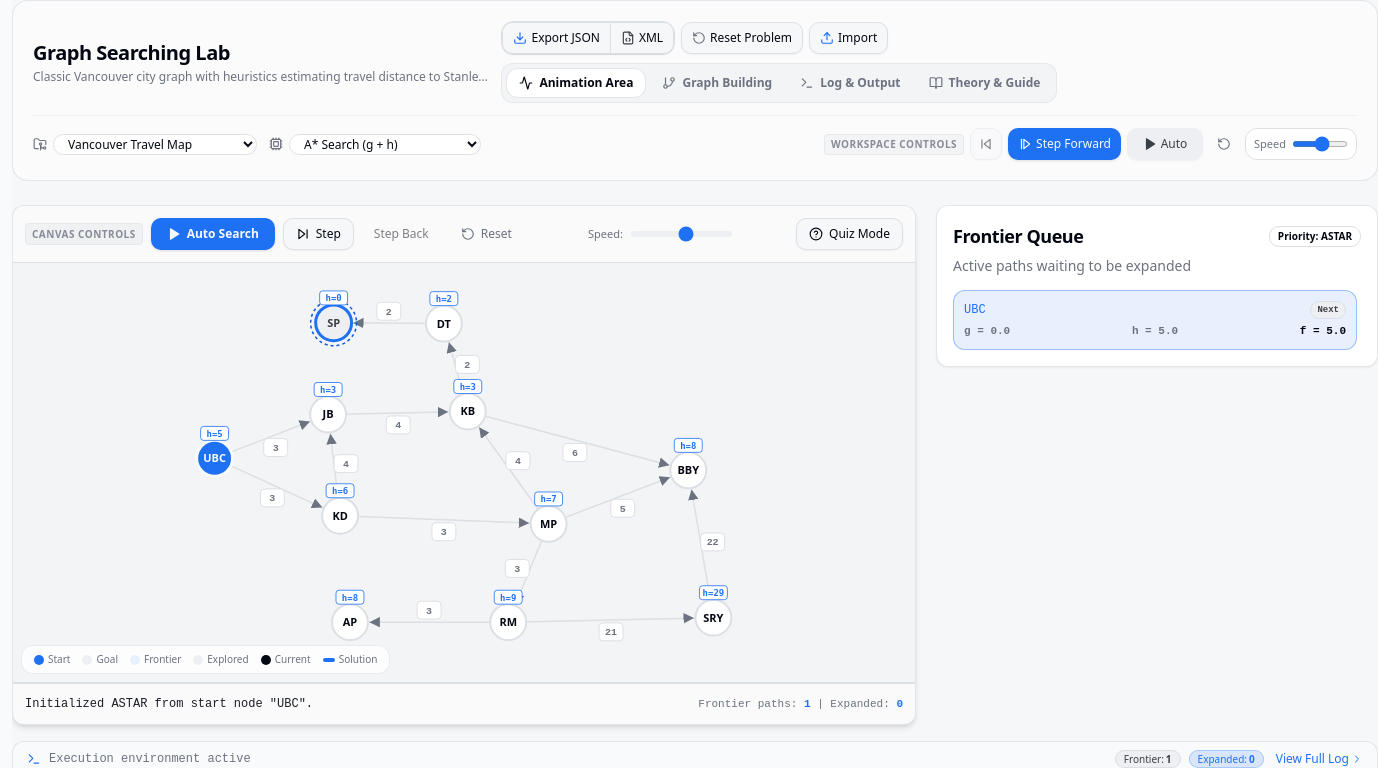
Test: Problem Export, Reset, and Import UI Integration › 1. SearchTool exports problem to JSON and XML
Click the button with test id "export-json-btn".
click(556, 38)  # box left=502, top=22, right=610, bottom=54
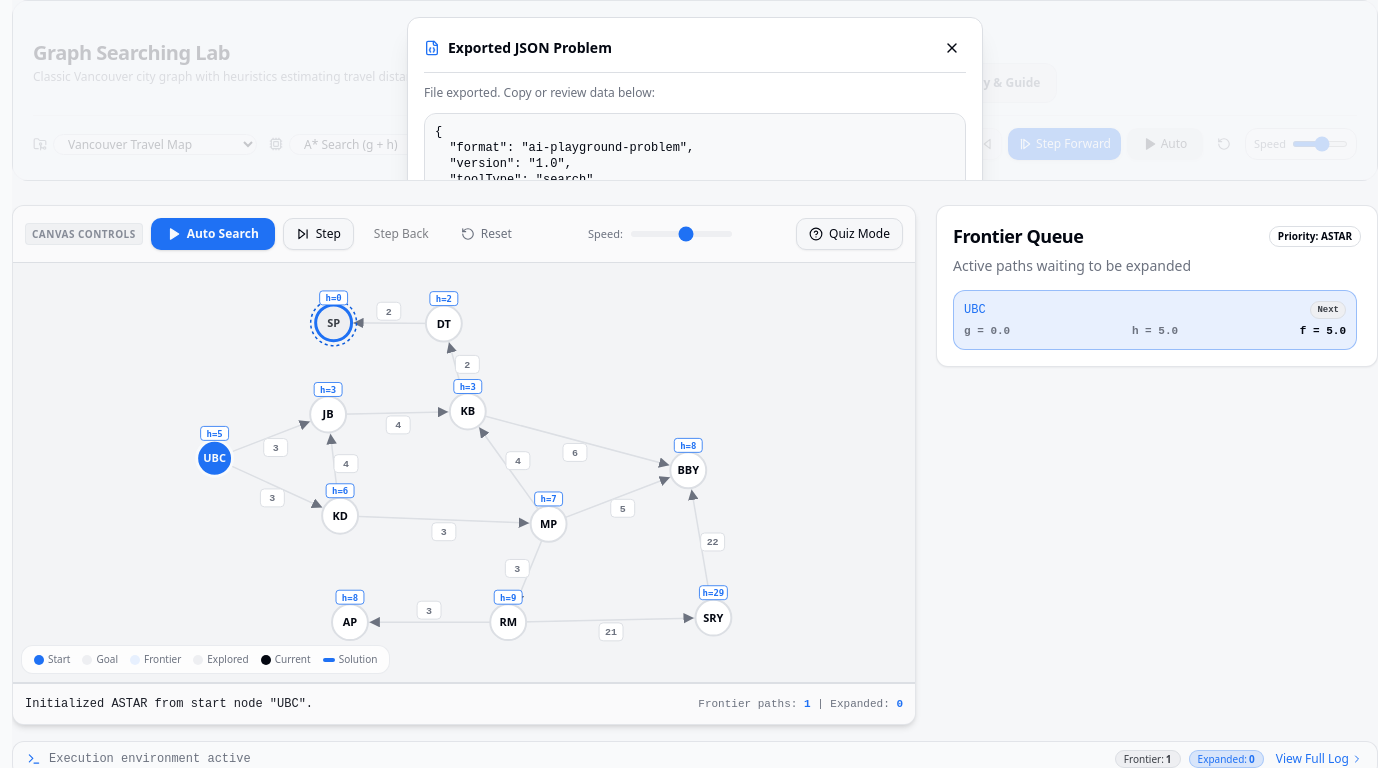
Now the element with test id "exported-modal" is shown, box left=13, top=1, right=1377, bottom=180
Close modal
Click the button with test id "close-exported-modal".
click(952, 48)  # box left=938, top=34, right=966, bottom=62
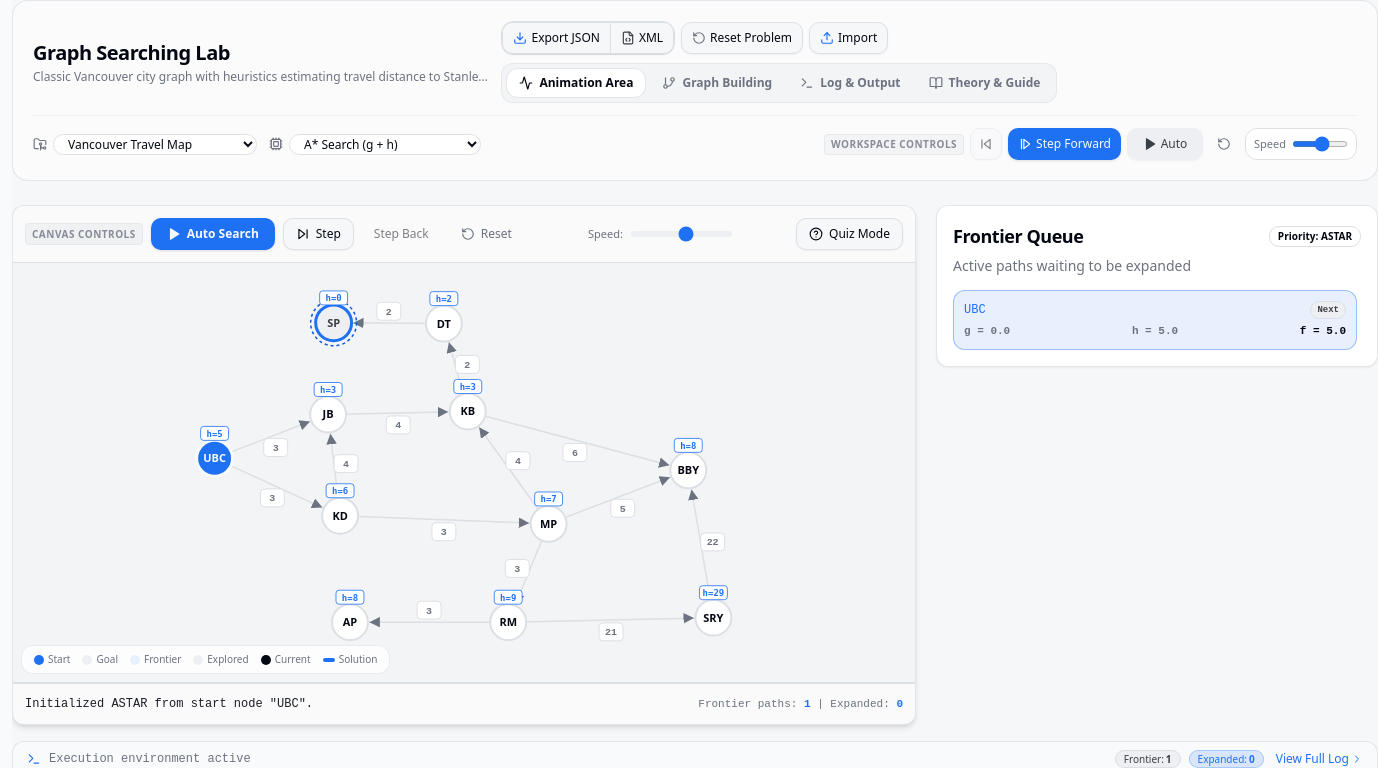
Now the element with test id "exported-modal" is gone
Export XML button exists
Click the button with test id "export-xml-btn".
click(642, 38)  # box left=610, top=22, right=674, bottom=54
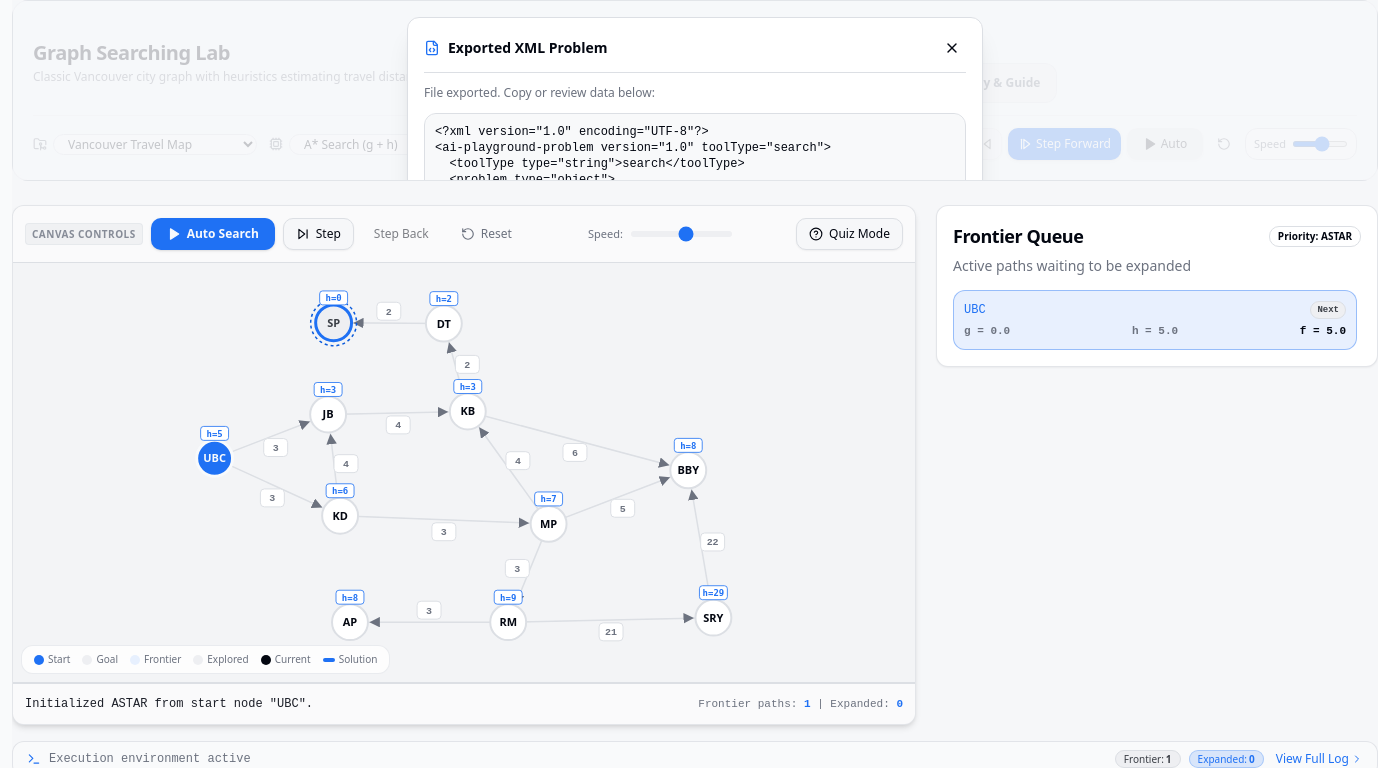
Now the element with test id "exported-modal" is shown, box left=13, top=1, right=1377, bottom=180
